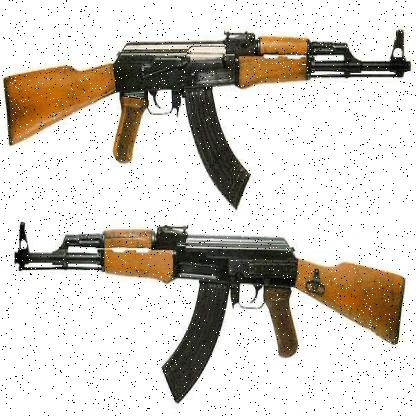rifle: (13, 201, 416, 408), (4, 3, 415, 203)
